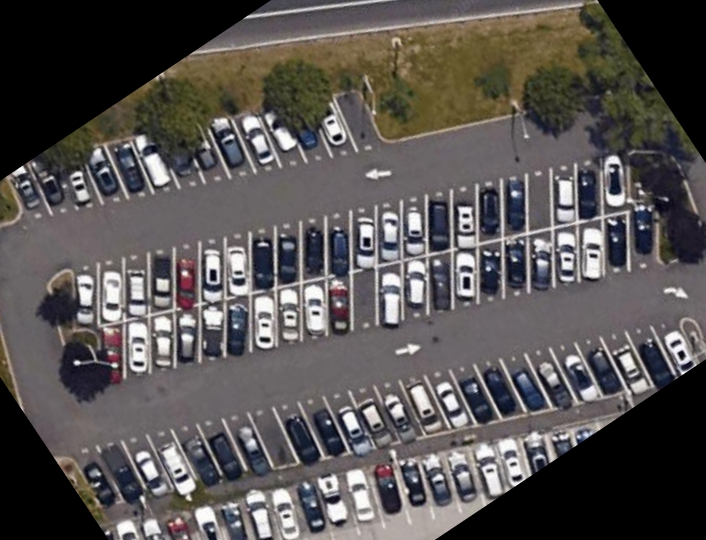parkingspot: (69, 145, 660, 397), (62, 316, 700, 514), (99, 411, 627, 540), (3, 87, 390, 224)
